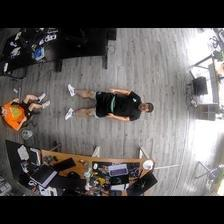fall: (64, 83, 156, 124)
normal: (1, 91, 50, 132)
